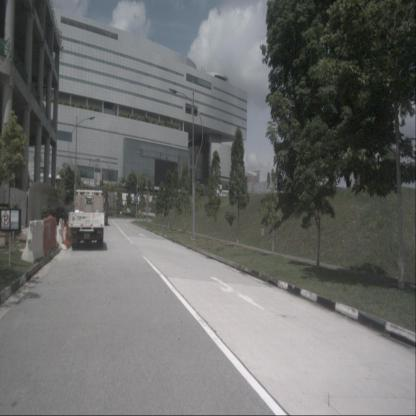barrier: (21, 219, 44, 264), (63, 221, 76, 249), (43, 215, 51, 257), (51, 214, 58, 256), (56, 218, 65, 245)
